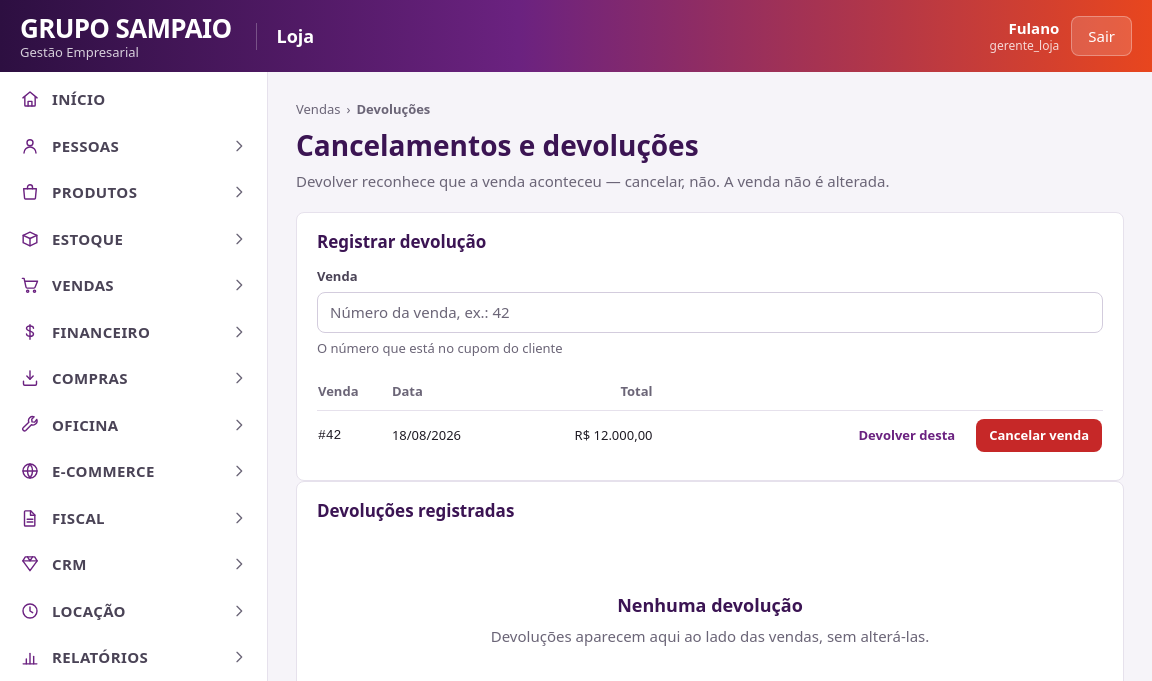
it: o recorte se declara E tem saída — a venda cancelada não é um beco › procurar a venda cancelada pelo número diz onde ela está
Expected: the text "#42" is shown, [317,410,391,460]
Note: O número da venda cancelada — o que o cliente traz no cupom.
Type "41" into the field labelled "Venda".
click(710, 312); type("41")  # box [317,292,1103,332]
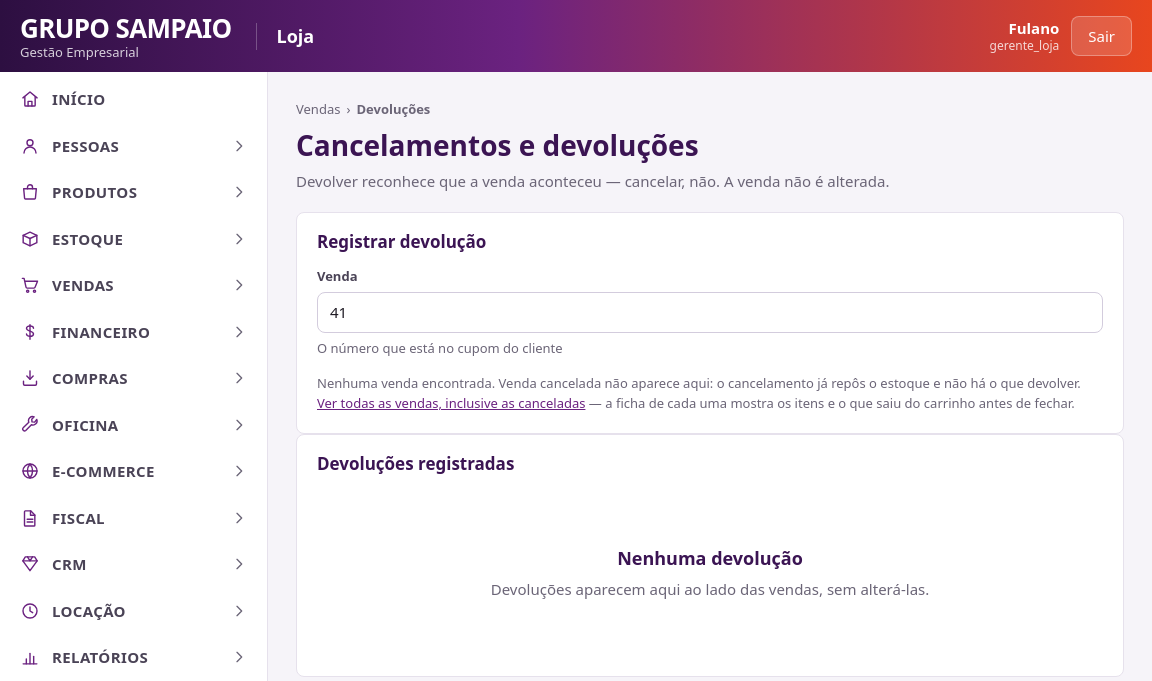
Expected: the text "Venda cancelada não aparece" is shown, [317,374,1081,392]
